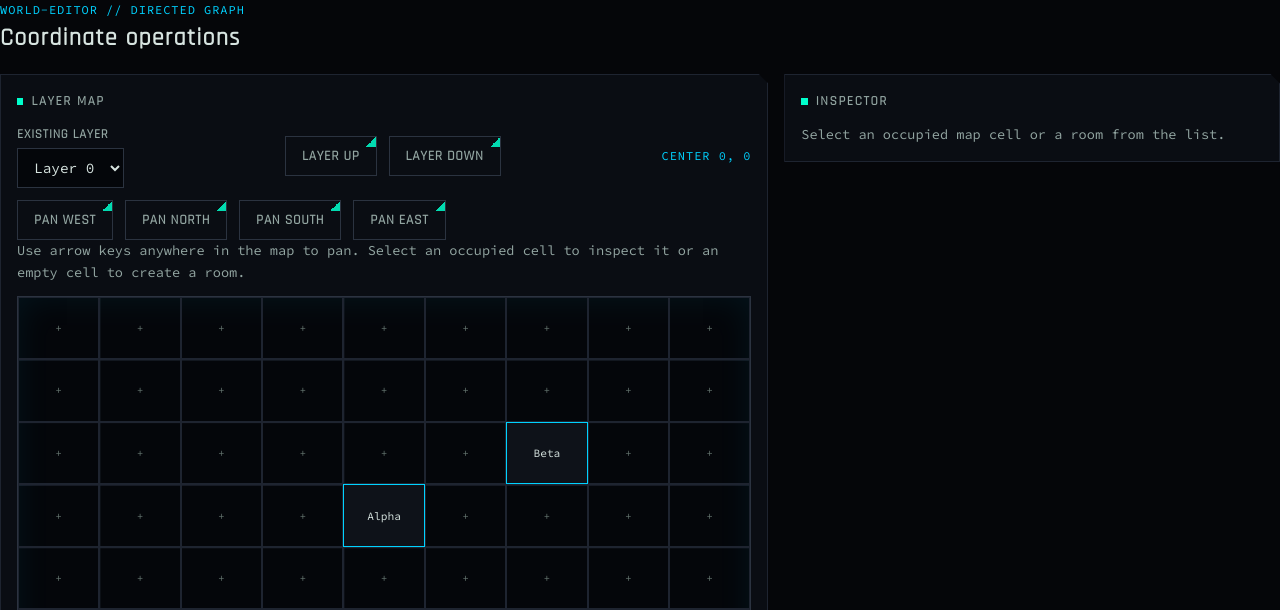
it: WorldEditorPage › creates a room from an empty cell with the exact public coordinate payload
Click the button named "Create room at coordinate 1, 0, layer 0" at (466, 516), box left=425, top=484, right=506, bottom=547
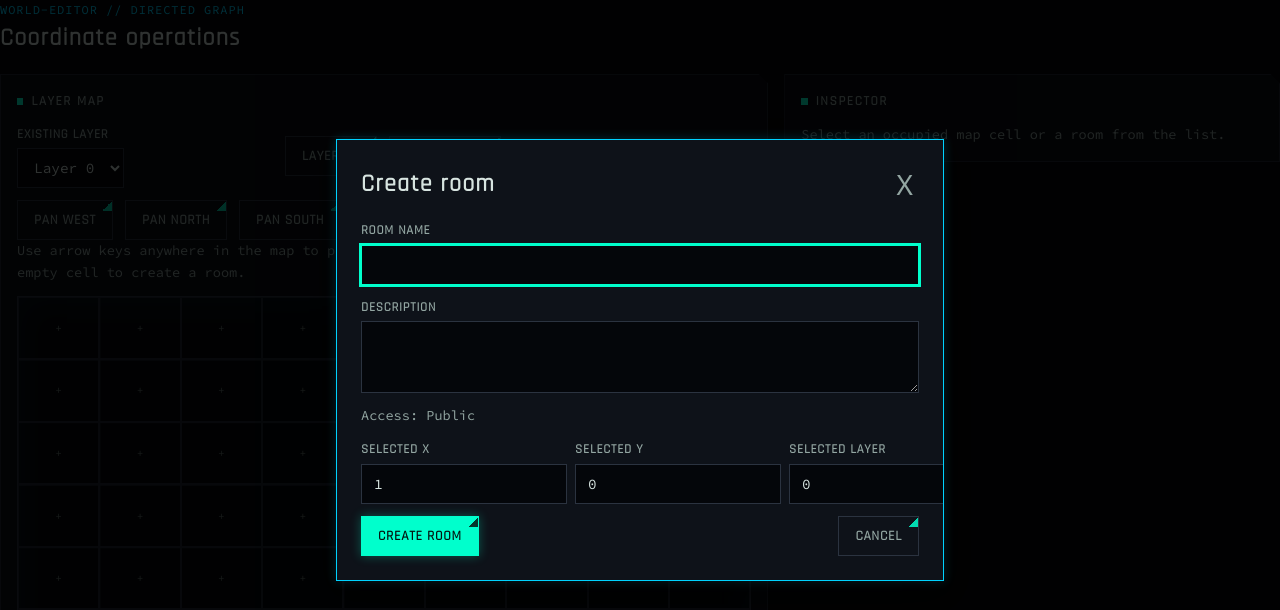
expect the text "Access: Public" is shown: met, box left=361, top=407, right=475, bottom=424
expect the field labelled "Selected X" holds "1": met, box left=361, top=464, right=567, bottom=504
expect the field labelled "Selected Y" holds "0": met, box left=575, top=464, right=781, bottom=504
Type "Neon Market" into the field labelled "Room name" at (640, 265), box left=361, top=245, right=919, bottom=285
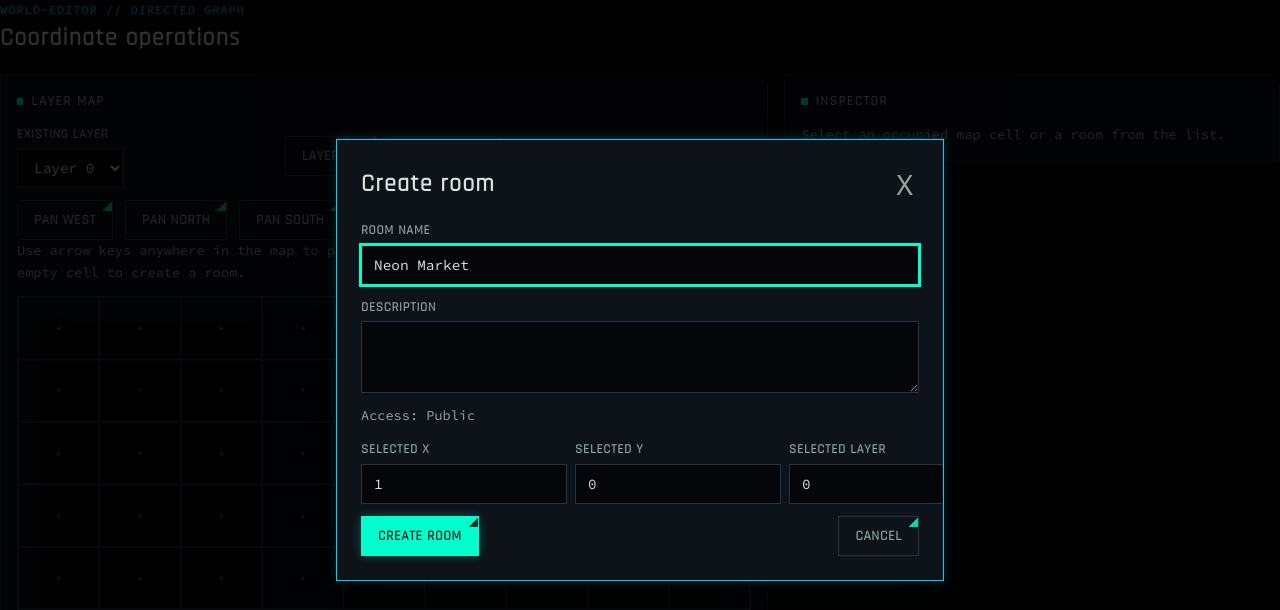
Type "Crowded stalls" into the text box labelled "Description" at (640, 357), box left=361, top=321, right=919, bottom=393
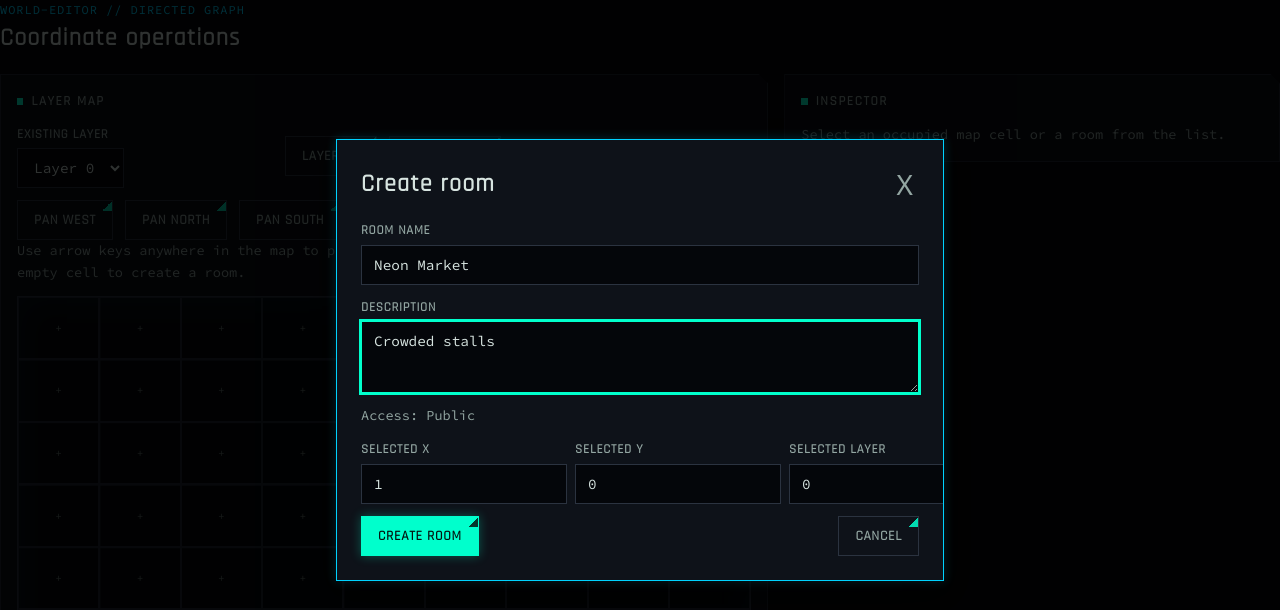
Click the button "Create room" at (420, 536), box left=361, top=516, right=478, bottom=556
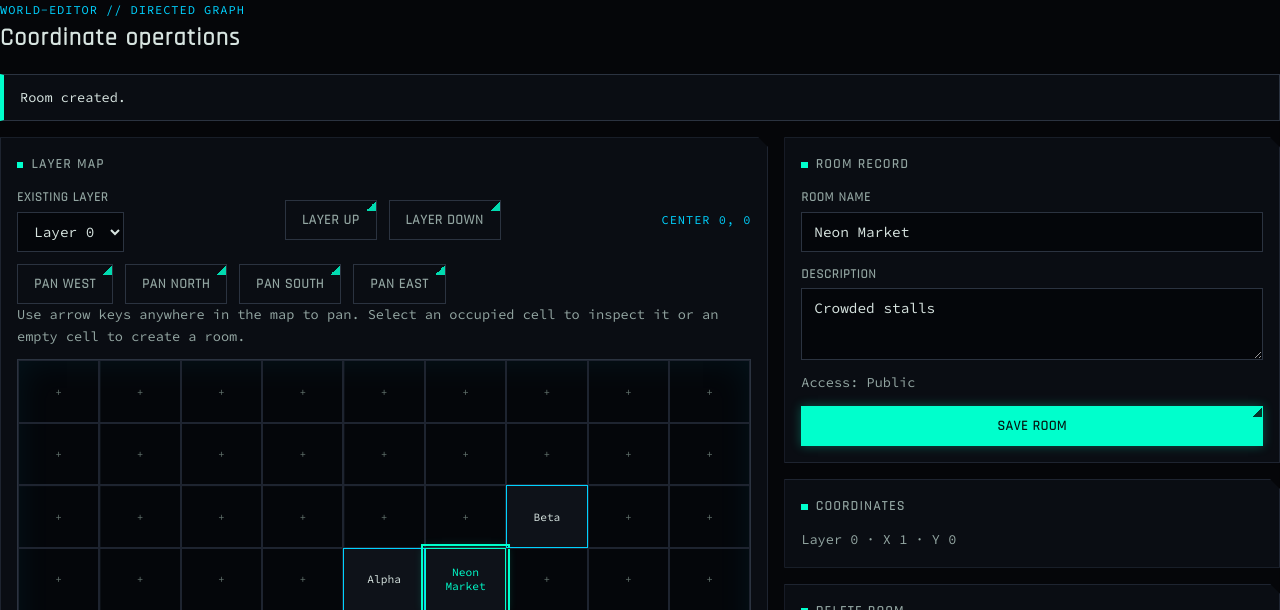
expect the field labelled "Room name" holds "Neon Market": met, box left=801, top=212, right=1263, bottom=252
expect the dialog is gone: met
